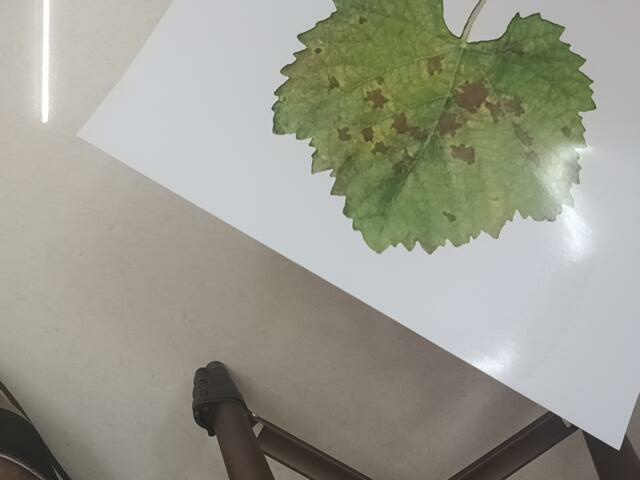Grape_Leaf_Vine_Disease: (275, 1, 596, 258)
